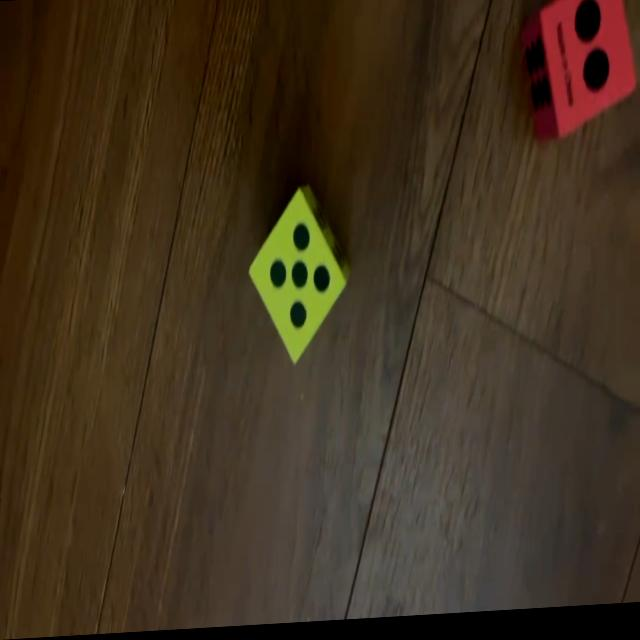red_block: (520, 0, 636, 146)
